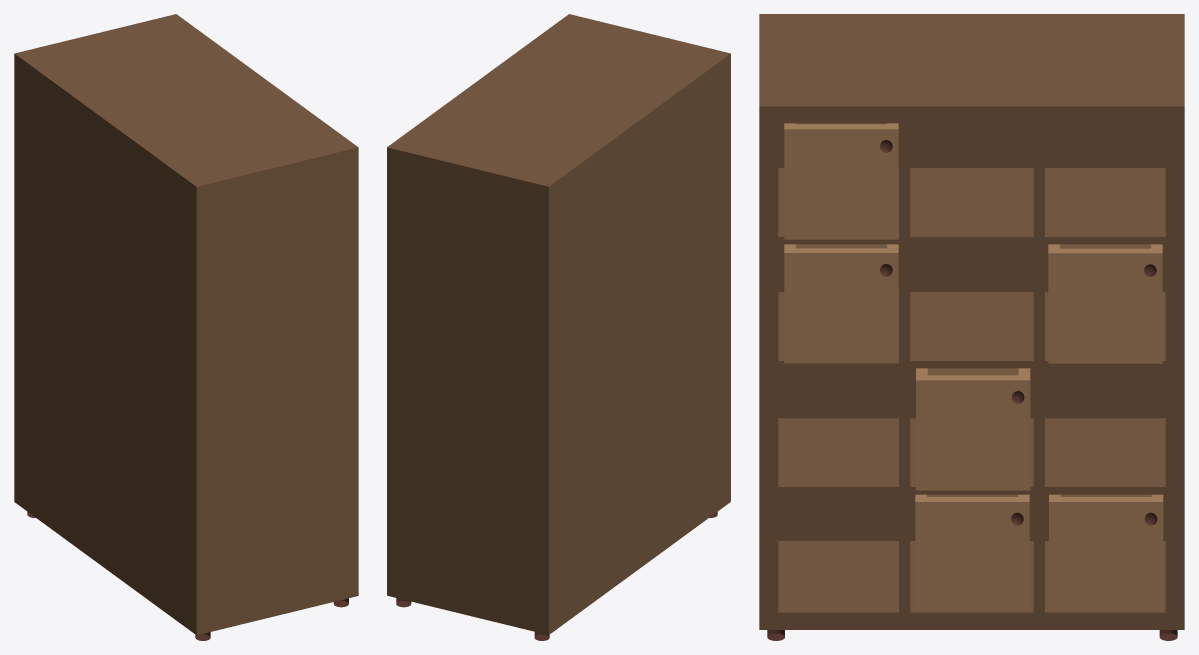
Rendered from estanteria.fbx.
The picture shows the model from 3 angles, left to right: view 1: azimuth 30°, elevation 25°; view 2: azimuth 150°, elevation 25°; view 3: azimuth 270°, elevation 25°; orthographic projection. The views are drawn at different scales.
Parts seen in each view (by area): view 1: estanteria; view 2: estanteria; view 3: estanteria, cajon 2 M, cajon3 I, cajon 3 D, cajon 1 M, cajon 1 D, cajon 4 I.
Part boxes in pixels (x1=…): estanteria: x1=14, y1=14, x2=358, y2=640; estanteria: x1=387, y1=14, x2=730, y2=640; estanteria: x1=759, y1=14, x2=1184, y2=640; cajon 2 M: x1=916, y1=368, x2=1030, y2=490; cajon3 I: x1=784, y1=244, x2=898, y2=363; cajon 3 D: x1=1048, y1=244, x2=1162, y2=363; cajon 1 M: x1=915, y1=494, x2=1029, y2=612; cajon 1 D: x1=1049, y1=494, x2=1163, y2=612; cajon 4 I: x1=784, y1=123, x2=898, y2=239.
Size of the model in its own units: 209 by 542 by 390.
